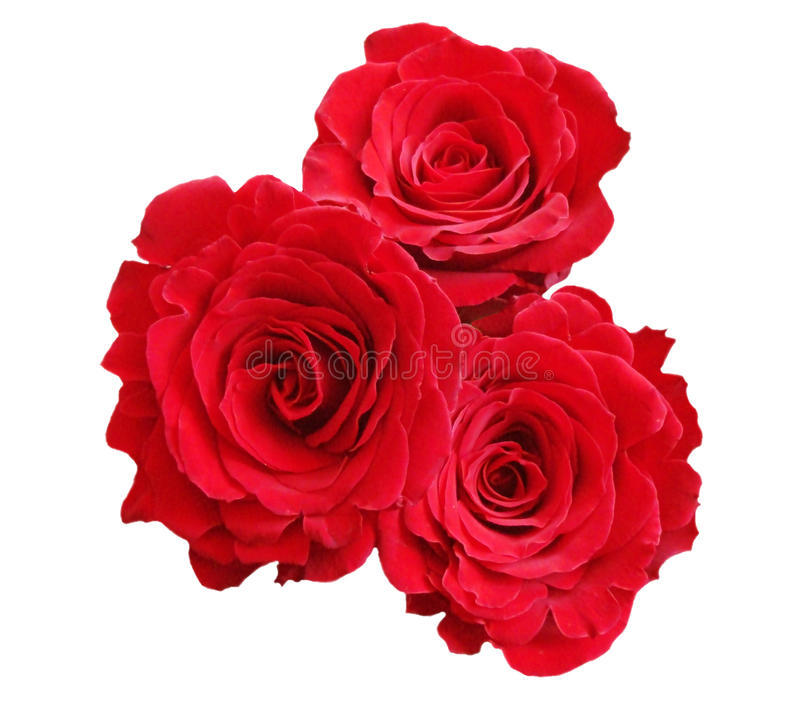RedRose: (105, 195, 427, 563), (409, 300, 661, 626), (270, 43, 608, 275)
